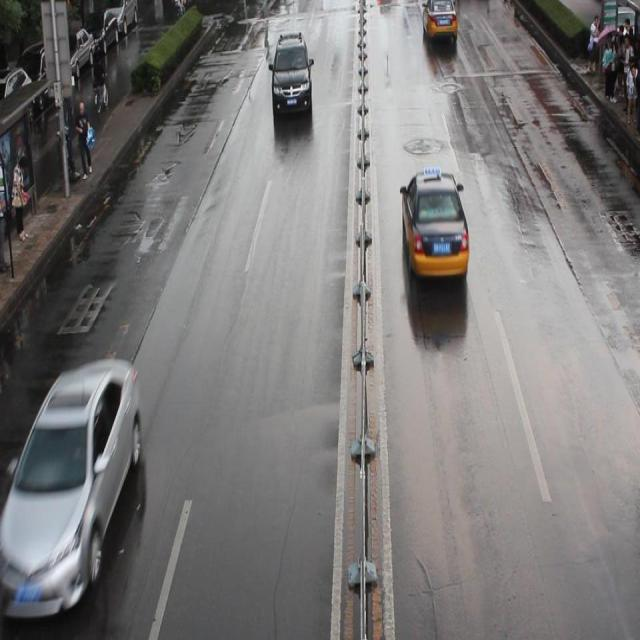car: (1, 354, 140, 617), (400, 167, 469, 281), (271, 34, 312, 115), (421, 1, 456, 44)
